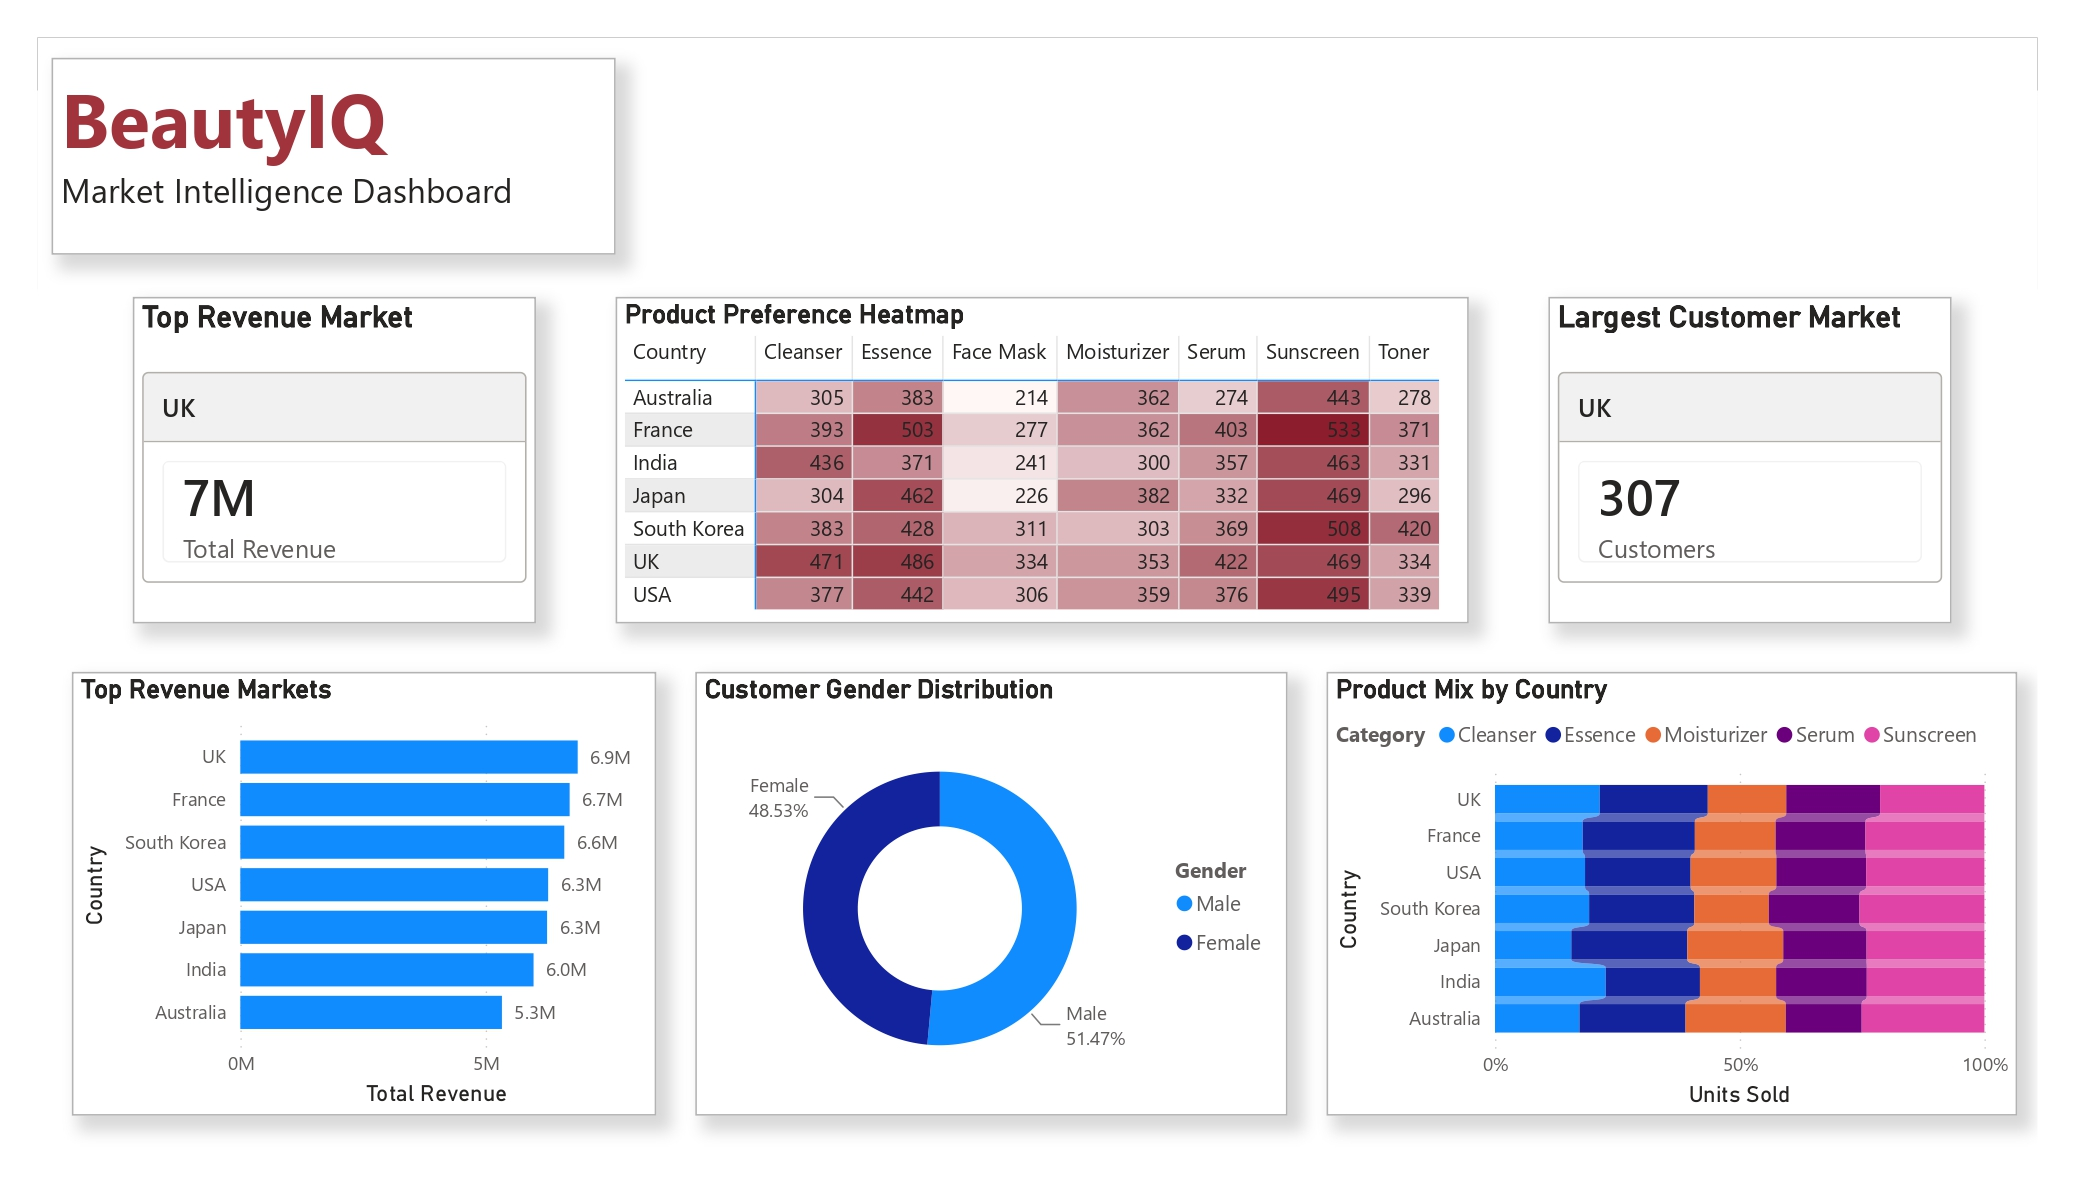

This screenshot's page, from the dashboard's own definition file:
{"tool":"powerbi","page":{"name":"Market Intelligence","canvas":[1280,720],"ordinal":4},"visuals":[{"type":"textbox","box":[9,13.4,361.2,125.4],"z":0},{"type":"donutChart","title":"Customer Gender Distribution","fields":{"Y":["DimBrand.Customers"],"Category":["DimCustomer.Gender"]},"box":[420.9,406,379.1,283.6],"z":1000},{"type":"cardVisual","title":"Largest Customer Market","fields":{"Rows":["DimCountry.Country"],"Data":["DimBrand.Customers"]},"box":[967.2,165.7,258.2,209],"z":2000},{"type":"clusteredBarChart","title":"Top Revenue Markets","fields":{"Category":["DimCountry.Country"],"Y":["FactSales.Total Revenue"]},"box":[22.4,406,373.1,283.6],"z":3000},{"type":"hundredPercentStackedBarChart","title":"Product Mix by Country","fields":{"Category":["DimCountry.Country"],"Series":["DimProduct.Category"],"Y":["DimBrand.Units Sold"]},"box":[825.4,406,441.8,283.6],"z":4000},{"type":"cardVisual","title":"Top Revenue Market","fields":{"Data":["FactSales.Total Revenue"],"Rows":["DimCountry.Country"]},"box":[61.2,165.7,258.2,209],"z":5000},{"type":"pivotTable","title":"Product Preference Heatmap","fields":{"Rows":["DimCountry.Country"],"Columns":["DimProduct.Category"],"Values":["DimBrand.Units Sold"]},"box":[370.1,165.7,546.3,209],"z":6000}]}

Visuals, with their boxes on the page's 1280x720 design canvas (x1, y1, x2, y2). These are canvas units, not pixel positions in the 2075x1200 screenshot, which may show the page scaled, cropped or inside an application window:
textbox: <region>9, 13, 370, 139</region>
"Customer Gender Distribution" donutChart: <region>421, 406, 800, 690</region>
"Largest Customer Market" cardVisual: <region>967, 166, 1225, 375</region>
"Top Revenue Markets" clusteredBarChart: <region>22, 406, 396, 690</region>
"Product Mix by Country" hundredPercentStackedBarChart: <region>825, 406, 1267, 690</region>
"Top Revenue Market" cardVisual: <region>61, 166, 319, 375</region>
"Product Preference Heatmap" pivotTable: <region>370, 166, 916, 375</region>
